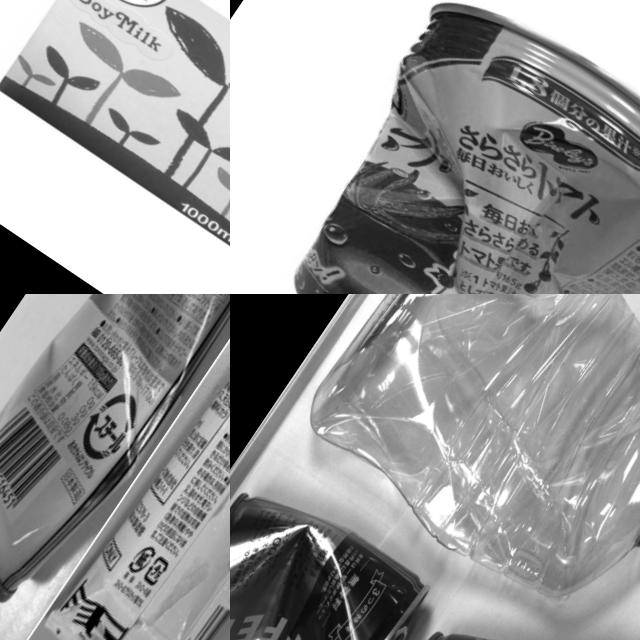Aluminium Foil: (42, 294, 230, 640), (0, 0, 230, 260)
Can: (250, 0, 640, 294), (0, 294, 230, 620), (230, 463, 437, 640), (337, 567, 640, 640)
Transparent Plastic Bottle: (293, 294, 640, 640)
